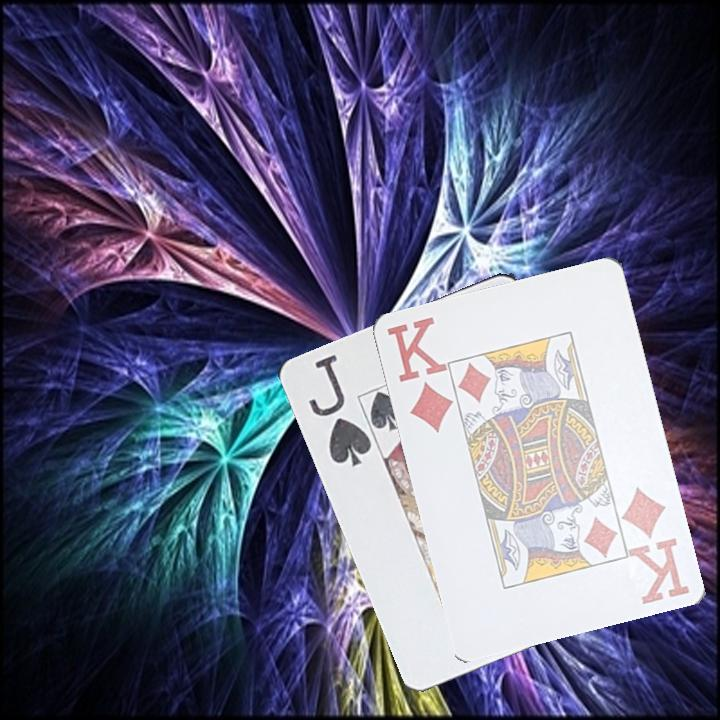Js: (304, 350, 374, 470)
Kd: (621, 483, 694, 607), (384, 314, 456, 437)
